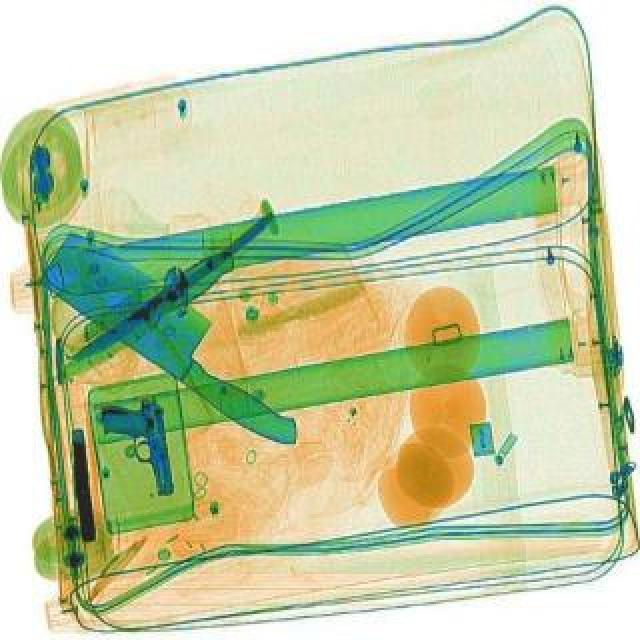gun: (100, 392, 176, 500), (62, 426, 102, 542)
knife: (24, 224, 336, 452), (70, 212, 278, 364), (42, 242, 242, 388)
